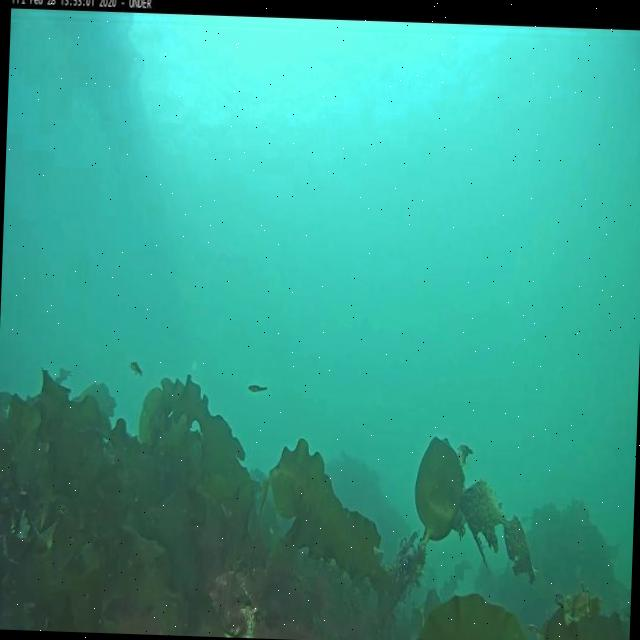fish: (128, 358, 146, 376), (246, 382, 268, 391)
